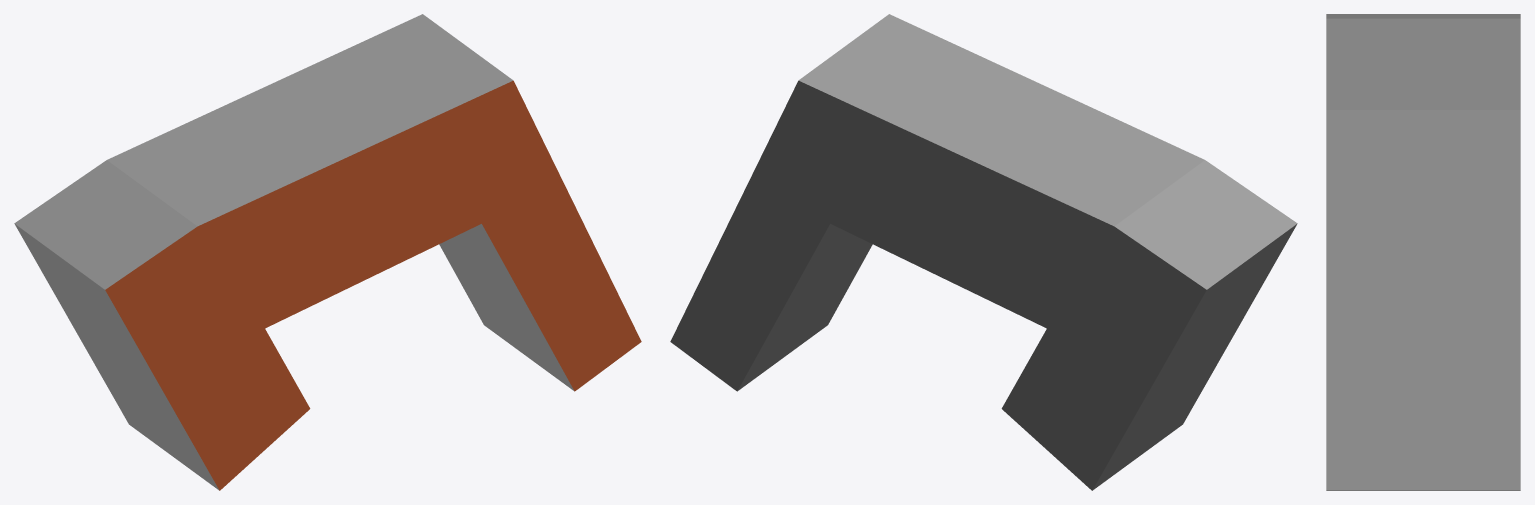
The model's file is construction_4544_assumed_A_Casa_h6m.obj.
3 views of the same model, side by side, from view 1: azimuth 30°, elevation 25°; view 2: azimuth 150°, elevation 25°; view 3: azimuth 270°, elevation 25° (orthographic). The views are drawn at different scales.
Parts seen in each view (by area): view 1: construction_4544_assumed_A_Casa; view 2: construction_4544_assumed_A_Casa; view 3: construction_4544_assumed_A_Casa.
Boxes of the visible parts, box(x1,y1,x2,y2) form: construction_4544_assumed_A_Casa: box(14, 14, 641, 490); construction_4544_assumed_A_Casa: box(670, 14, 1297, 490); construction_4544_assumed_A_Casa: box(1326, 14, 1520, 490).
Bounding box in the file's own units: 20.47 × 12.35 × 6.
